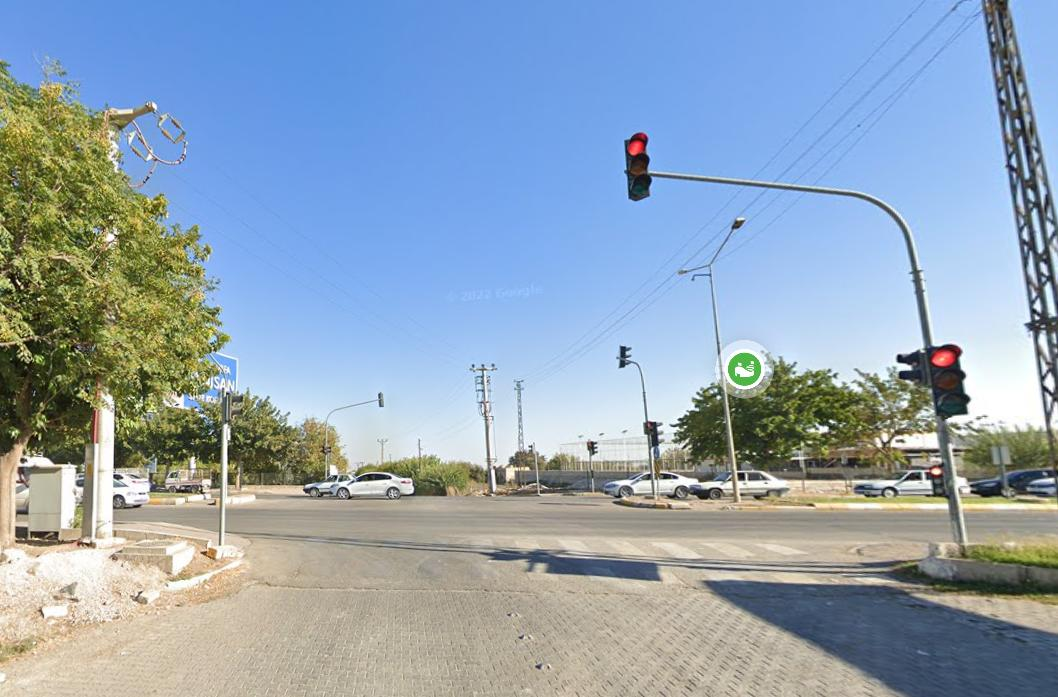redlight: (927, 343, 972, 422), (624, 135, 651, 201)
